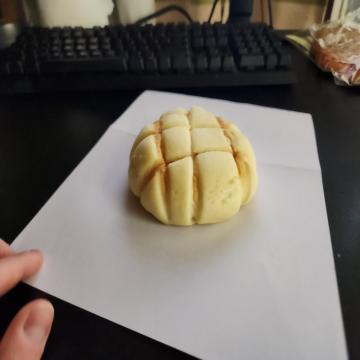melon_bread: (127, 107, 259, 225)
